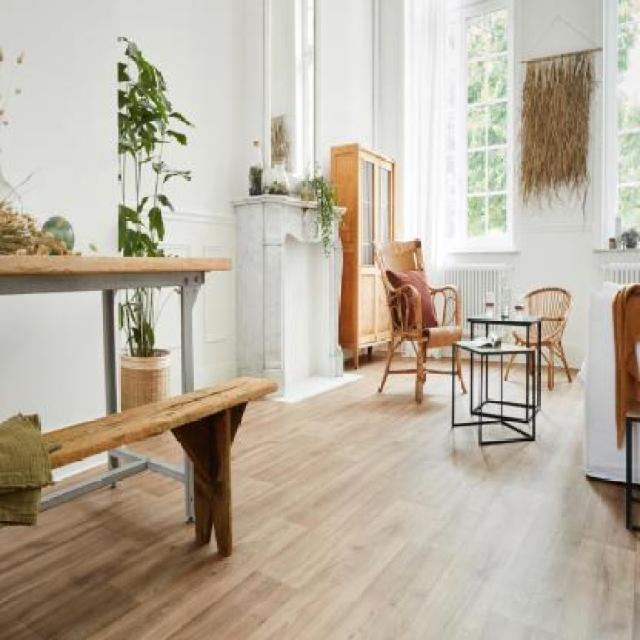floor: (0, 362, 640, 640)
